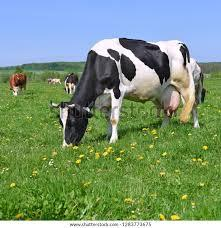cow: (50, 38, 197, 149), (10, 73, 27, 96), (65, 73, 79, 93), (48, 78, 61, 85)
